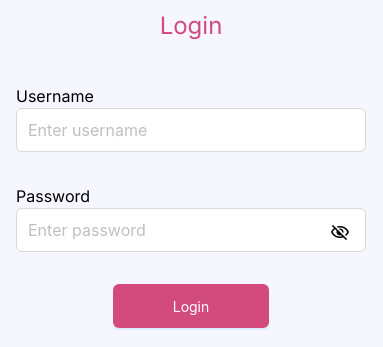
Login component › should show validation errors when submitting with empty fields
This screenshot has width=383, height=347.
Step 1. Click the button "Login" → point(191, 306), box [113,284,269,328]
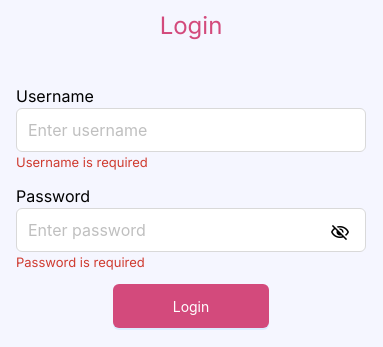
Result: the text "Username is required" is shown at [16,152,148,172]
Result: the text "Password is required" is shown at [16,252,145,272]
